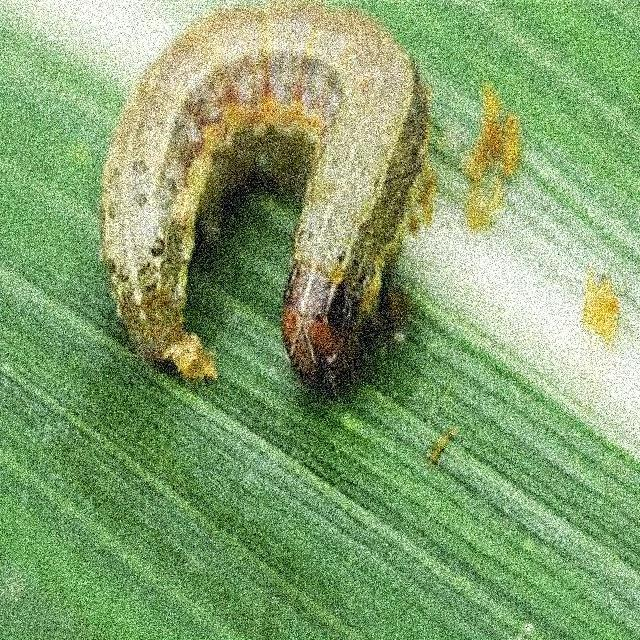Plaga: (94, 1, 434, 390)
